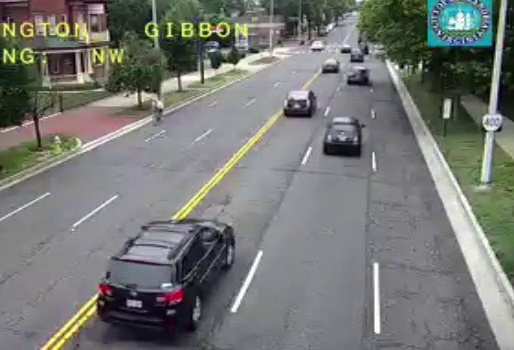car: (98, 219, 235, 326), (323, 117, 361, 149), (283, 91, 315, 116), (347, 66, 369, 84)
